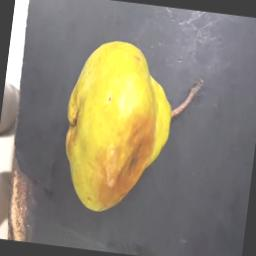Pear Rotten: (41, 26, 214, 229)
